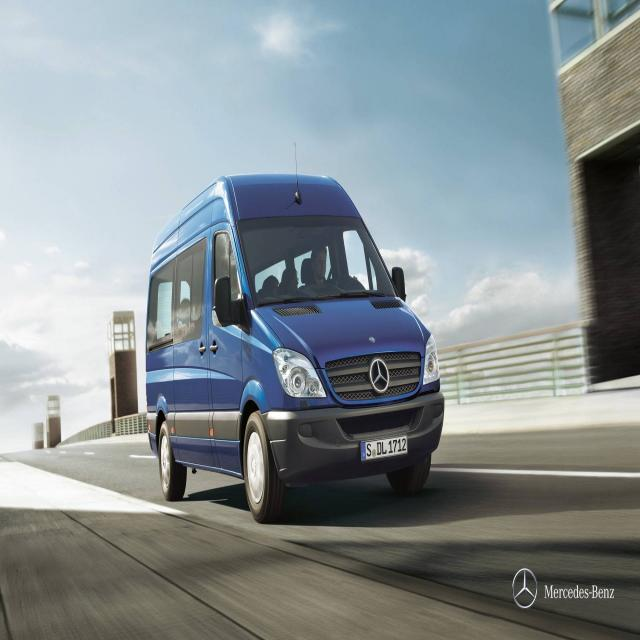microbus: (130, 144, 452, 522)
